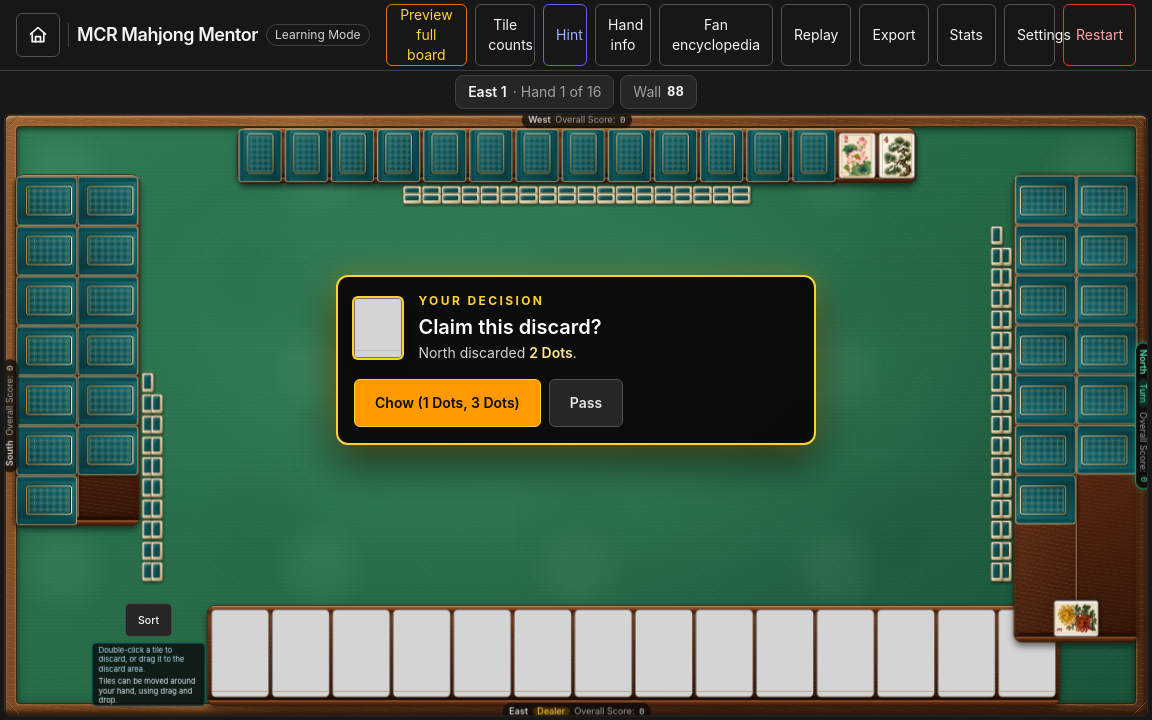
Test: App › puts Strategy Coach in the foreground during a pending claim and restores the claim when it closes
Expected: the dialog "Claim this discard" is shown, [336, 275, 816, 445]
Click the button "Hint": [565, 35] box [543, 4, 587, 66]
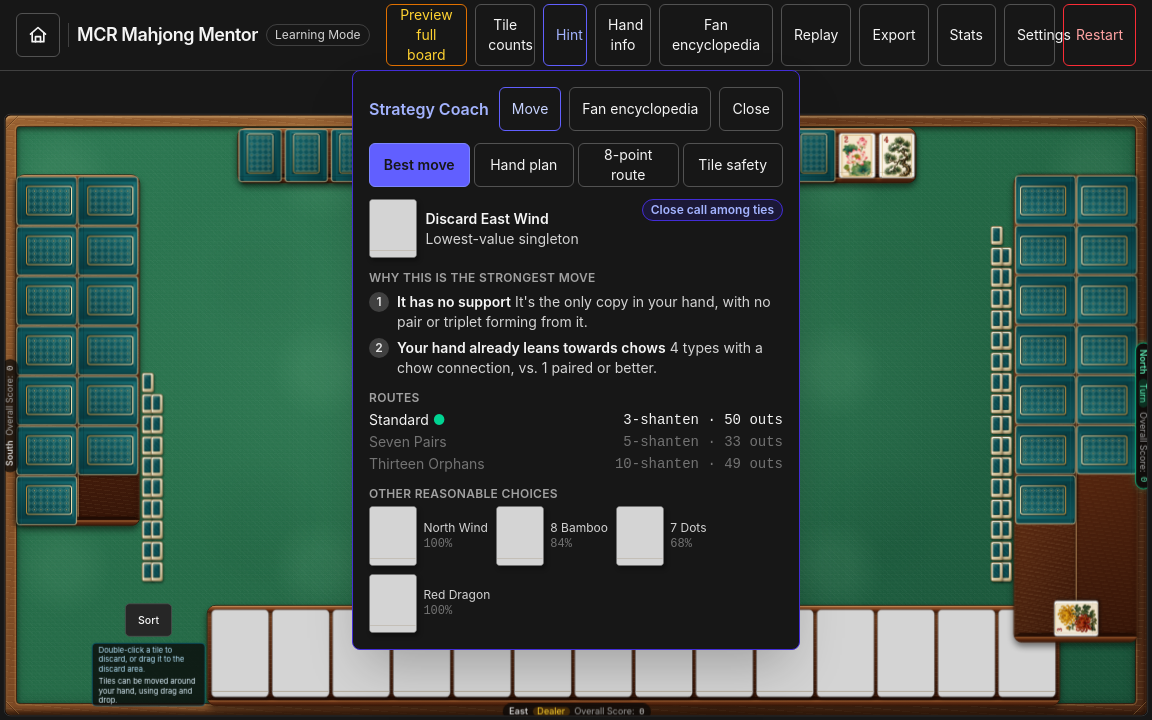
Now the dialog "Strategy Coach" is shown, box [352, 70, 800, 650]
Now the heading "Claim this discard" is gone
Click the button "Close": [751, 109] box [719, 87, 783, 131]
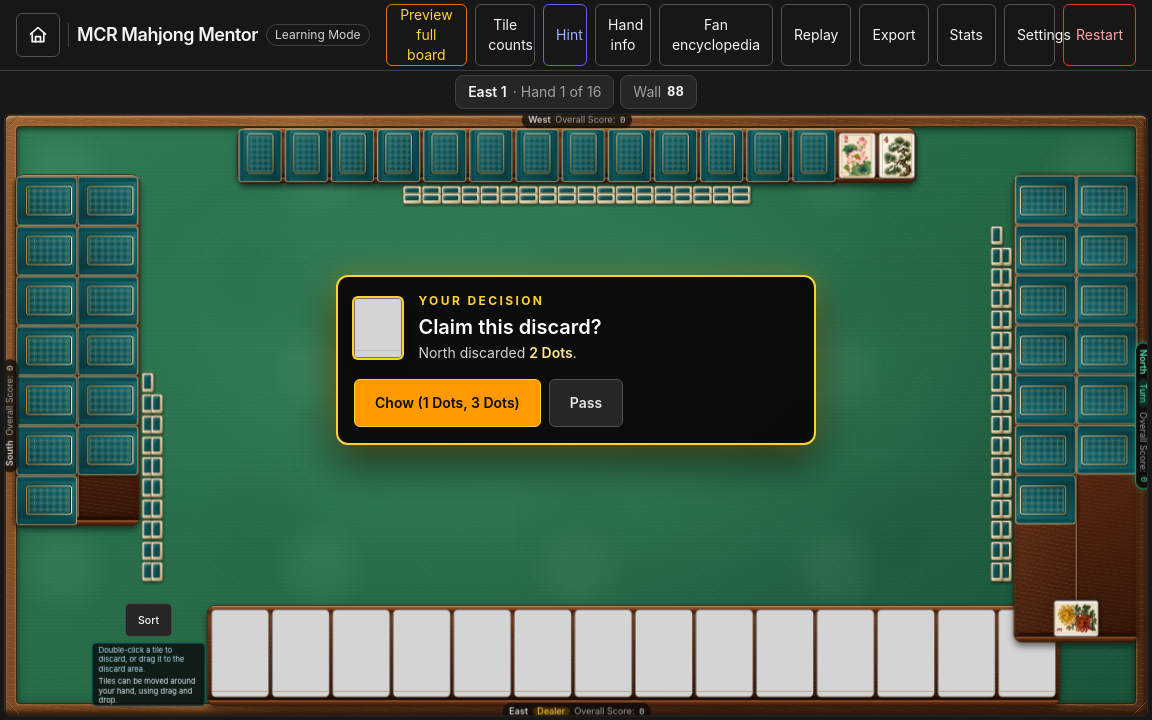
Now the heading "Strategy Coach" is gone
Now the dialog "Claim this discard" is shown, box [336, 275, 816, 445]
